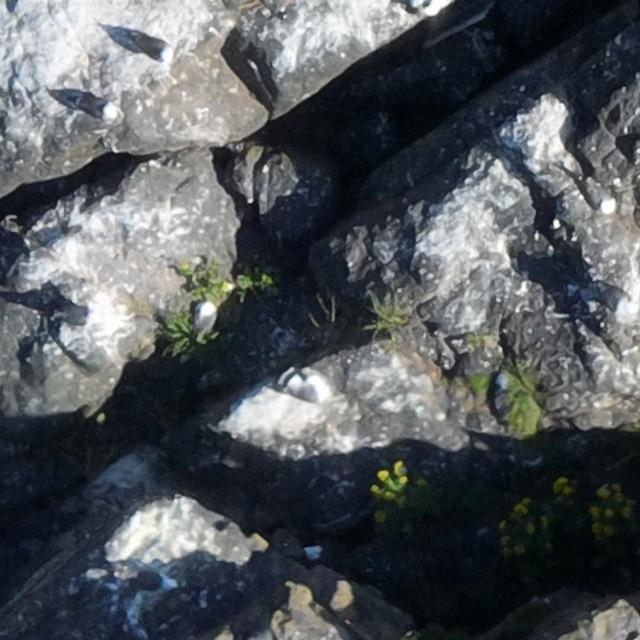umineko: (283, 366, 335, 402), (579, 168, 615, 216), (598, 285, 634, 316), (124, 37, 171, 60), (141, 568, 180, 594), (65, 95, 113, 116), (198, 304, 215, 330)
